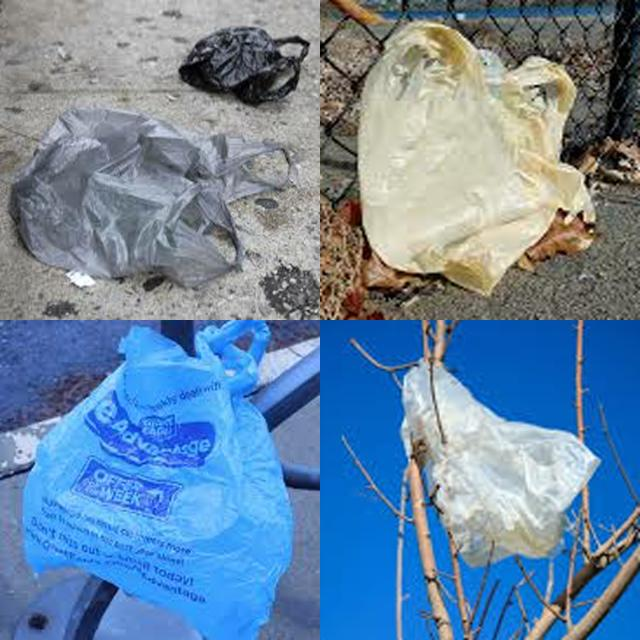Single-layer Plastic: (24, 321, 292, 640), (358, 22, 594, 295), (12, 110, 295, 286), (401, 359, 600, 566), (179, 28, 310, 105)
